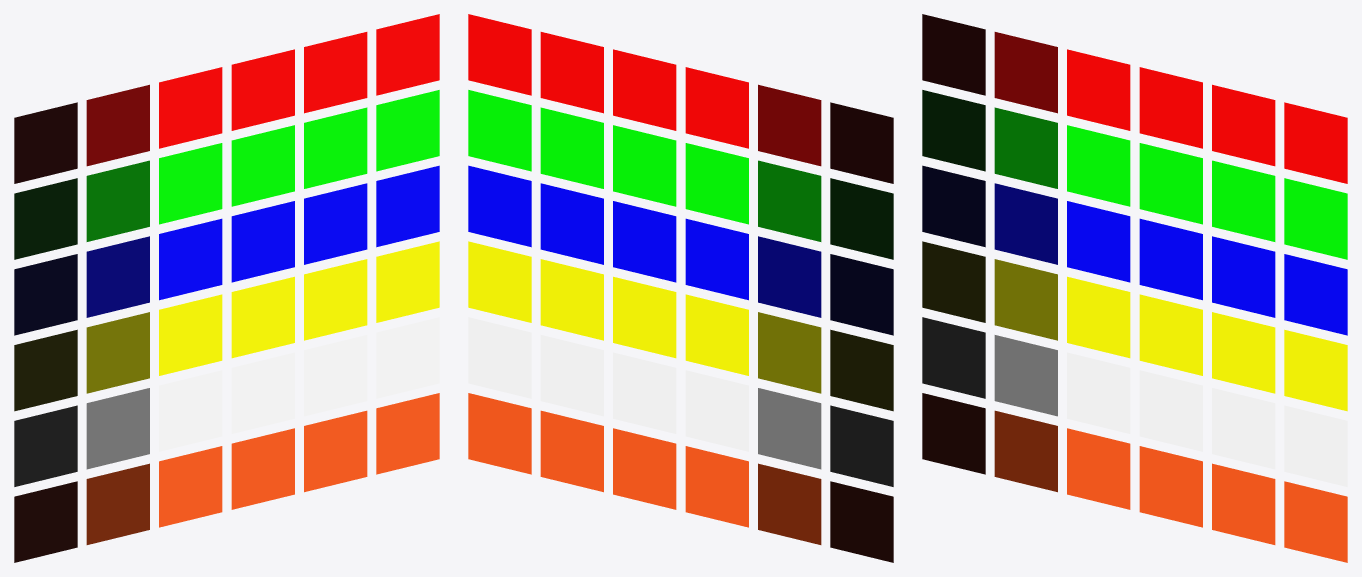
Rendered from display_swatches.gltf.
3 renders of one model, left to right at view 1: azimuth 30°, elevation 25°; view 2: azimuth 150°, elevation 25°; view 3: azimuth 330°, elevation 25°, orthographic.
Parts seen in each view (by area): view 1: Swatch_2_3, Swatch_3_2, Swatch_0_0, Swatch_0_1, Swatch_0_2, Swatch_0_5, Swatch_1_0, Swatch_1_1, Swatch_1_2, Swatch_1_3, Swatch_1_4, Swatch_1_5 (+24 smaller); view 2: Swatch_2_3, Swatch_3_2, Swatch_0_0, Swatch_0_1, Swatch_0_2, Swatch_0_5, Swatch_1_0, Swatch_1_1, Swatch_1_2, Swatch_1_3, Swatch_1_4, Swatch_1_5 (+24 smaller); view 3: Swatch_2_2, Swatch_3_3, Swatch_0_0, Swatch_0_3, Swatch_0_4, Swatch_0_5, Swatch_1_0, Swatch_1_1, Swatch_1_2, Swatch_1_3, Swatch_1_4, Swatch_1_5 (+24 smaller).
Boxes of the visible parts, x1,y1,x2,y2 form: Swatch_2_3: [231, 201, 294, 282]; Swatch_3_2: [159, 294, 222, 375]; Swatch_0_0: [14, 102, 77, 183]; Swatch_0_1: [86, 84, 149, 166]; Swatch_0_2: [159, 67, 222, 148]; Swatch_0_5: [376, 14, 439, 95]; Swatch_1_0: [14, 178, 77, 259]; Swatch_1_1: [86, 160, 149, 241]; Swatch_1_2: [159, 143, 222, 224]; Swatch_1_3: [231, 125, 294, 206]; Swatch_1_4: [304, 107, 367, 188]; Swatch_1_5: [376, 90, 439, 171]; Swatch_2_3: [613, 201, 676, 282]; Swatch_3_2: [685, 294, 748, 375]; Swatch_0_0: [830, 102, 893, 183]; Swatch_0_1: [758, 84, 821, 166]; Swatch_0_2: [685, 67, 748, 148]; Swatch_0_5: [468, 14, 531, 95]; Swatch_1_0: [830, 178, 893, 259]; Swatch_1_1: [758, 160, 821, 241]; Swatch_1_2: [685, 143, 748, 224]; Swatch_1_3: [613, 125, 676, 206]; Swatch_1_4: [540, 107, 603, 188]; Swatch_1_5: [468, 90, 531, 171]; Swatch_2_2: [1067, 201, 1130, 282]; Swatch_3_3: [1139, 294, 1202, 375]; Swatch_0_0: [922, 14, 985, 95]; Swatch_0_3: [1139, 67, 1202, 148]; Swatch_0_4: [1212, 84, 1275, 166]; Swatch_0_5: [1284, 102, 1347, 183]; Swatch_1_0: [922, 90, 985, 171]; Swatch_1_1: [994, 107, 1057, 188]; Swatch_1_2: [1067, 125, 1130, 206]; Swatch_1_3: [1139, 143, 1202, 224]; Swatch_1_4: [1212, 160, 1275, 241]; Swatch_1_5: [1284, 178, 1347, 259].
Size of the model in its own units: 4.7 by 4.7 by 0.
